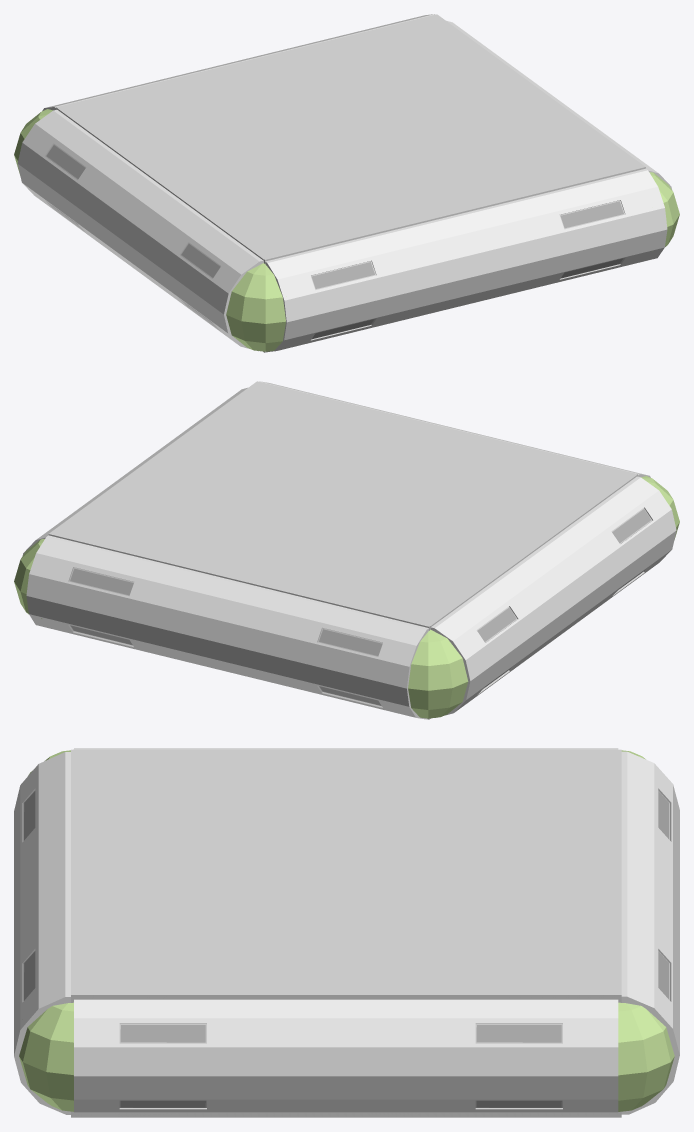
3 renders of one model, top to bottom at view 1: azimuth 30°, elevation 25°; view 2: azimuth 150°, elevation 25°; view 3: azimuth 270°, elevation 25°, orthographic. The views are drawn at different scales.
Parts seen in each view (by area): view 1: Sphere_4; view 2: Sphere_4; view 3: Sphere_4.
Part boxes in pixels (<box>): Sphere_4: <box>14,14,679,352</box>; Sphere_4: <box>14,381,679,719</box>; Sphere_4: <box>14,748,679,1117</box>.
Bounding box in the file's own units: 1476 × 290 × 1429.
